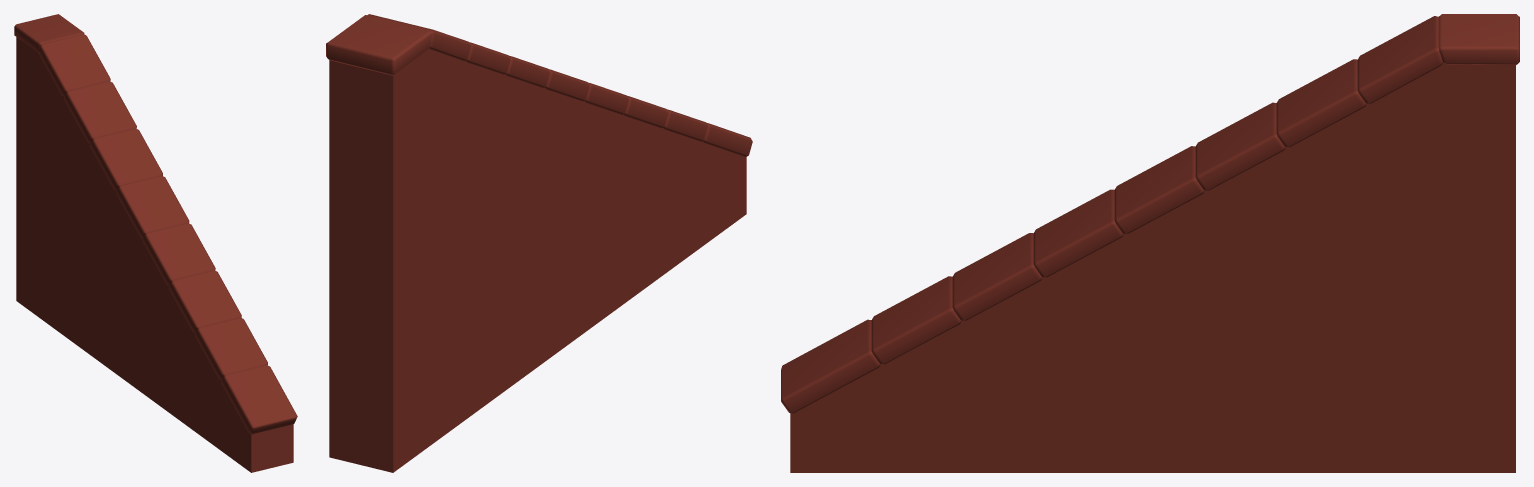
The model's file is fence_002.fbx.
3 renders of one model, left to right at view 1: azimuth 30°, elevation 25°; view 2: azimuth 150°, elevation 25°; view 3: azimuth 270°, elevation 25°, orthographic. The views are drawn at different scales.
Visible parts, largest first — view 1: fence_002; view 2: fence_002; view 3: fence_002.
Boxes of the visible parts, bbox=[...] form: fence_002: bbox=[14, 14, 297, 472]; fence_002: bbox=[326, 14, 752, 472]; fence_002: bbox=[781, 14, 1519, 472].
Size of the model in its own units: 99.53 by 888 by 566.
